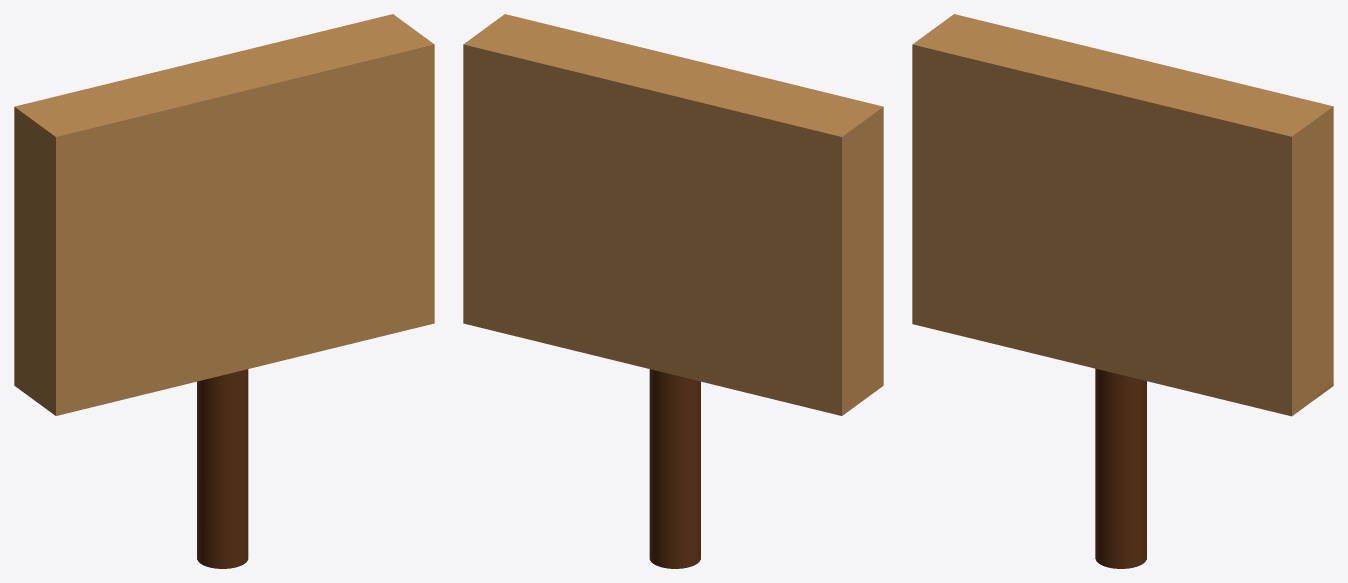
Rendered from Sign.fbx.
3 views of the same model, side by side, from view 1: azimuth 30°, elevation 25°; view 2: azimuth 150°, elevation 25°; view 3: azimuth 330°, elevation 25° (orthographic).
Parts seen in each view (by area): view 1: Cube; view 2: Cube; view 3: Cube.
Part boxes in pixels (bbox=[...]): Cube: bbox=[14, 14, 434, 568]; Cube: bbox=[463, 14, 883, 568]; Cube: bbox=[912, 14, 1333, 568].
Size of the model in its own units: 183 by 222 by 34.77.
1 material, 1 textured.
